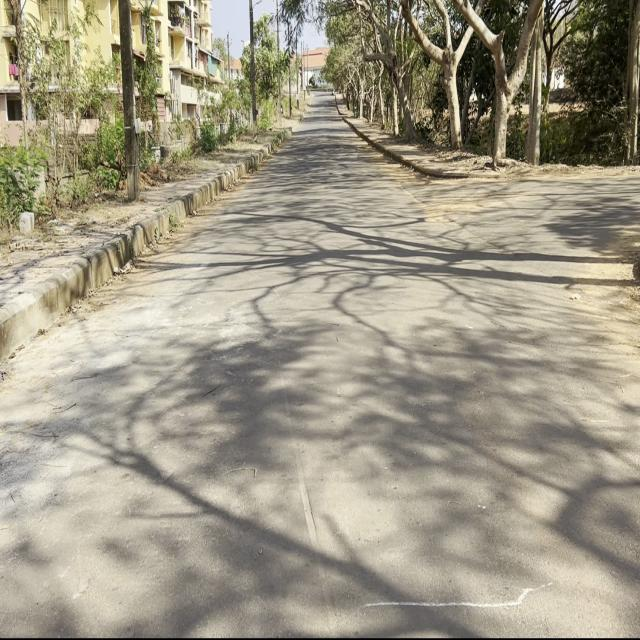Road: (5, 101, 639, 629)
